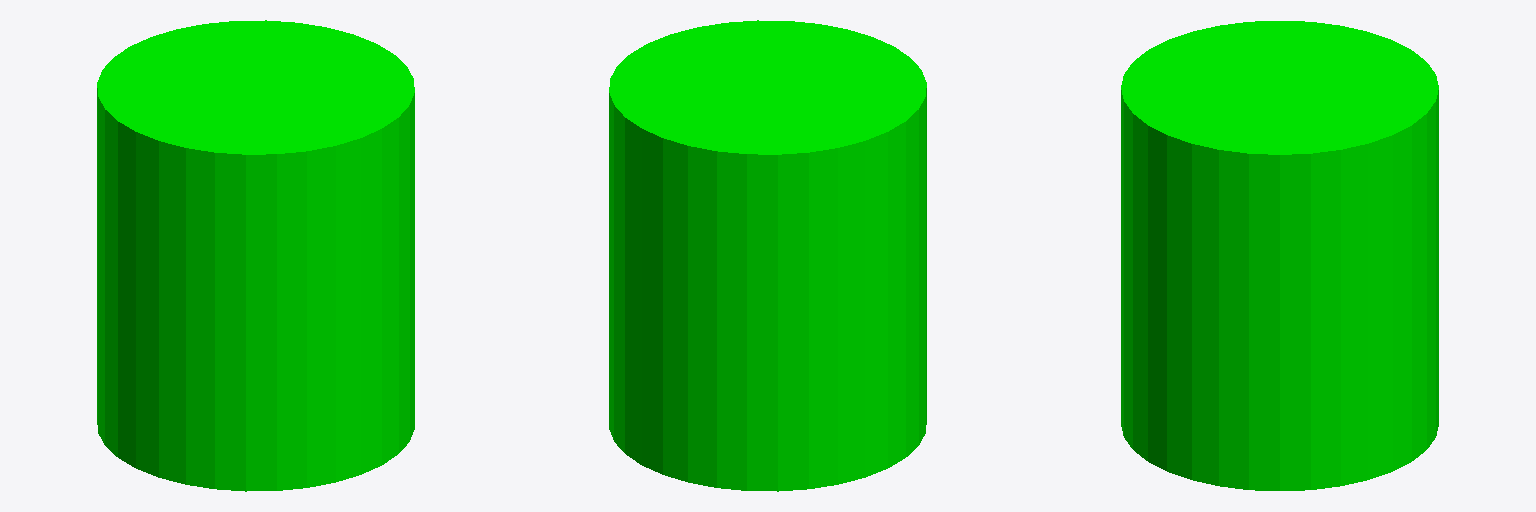
The robot description file, URDF, robot "cube":
<?xml version="0.0" ?>
<robot name="cube">
  <link name="cube">
    <contact>
      <lateral_friction value="0.7"/>
      <rolling_friction value="0.0"/>
      <contact_cfm value="0.0"/>
      <contact_erp value="0.1"/>
    </contact>
    <inertial>
      <origin rpy="0 0 0" xyz="0 0 0"/>
       <mass value=".0"/>
       <inertia ixx=".01" ixy="0" ixz="0" iyy=".01" iyz="0" izz=".01"/>
    </inertial>
    <visual>
      <origin rpy="0 0 0" xyz="0.0 0.0 0.0"/>
      <geometry>
        <cylinder radius="0.03" length="0.07"/>
      </geometry>
      <material name="desert sand">
        <color rgba="0. 1. 0. 1" />
      </material>
    </visual>
    <!-- <collision>
      <origin rpy="0 0 0" xyz="0.0 0.0 0.0"/>
      <geometry>
        <box size="0.05 0.05 0.05"/>
      </geometry>
    </collision> -->
  </link>


</robot>

--- What the picture shows (computed from the rendered views, not written in the file) ---
Views: 3 orthographic renders of the robot side by side, from view 1: azimuth 30°, elevation 25°; view 2: azimuth 150°, elevation 25°; view 3: azimuth 270°, elevation 25°.
Model cube with 1 links and 0 joints (none), rooted at cube, posed all joints at 0.
Visible links, largest first — view 1: cube; view 2: cube; view 3: cube.
Link boxes in pixels (box(x1,y1,x2,y2)): cube: box(97, 20, 414, 491); cube: box(609, 20, 926, 491); cube: box(1121, 21, 1438, 490).
Size in the robot's own frame: 0.06 by 0.06 by 0.07 metres.
Geometry: primitives only (box / cylinder / sphere), no mesh files.